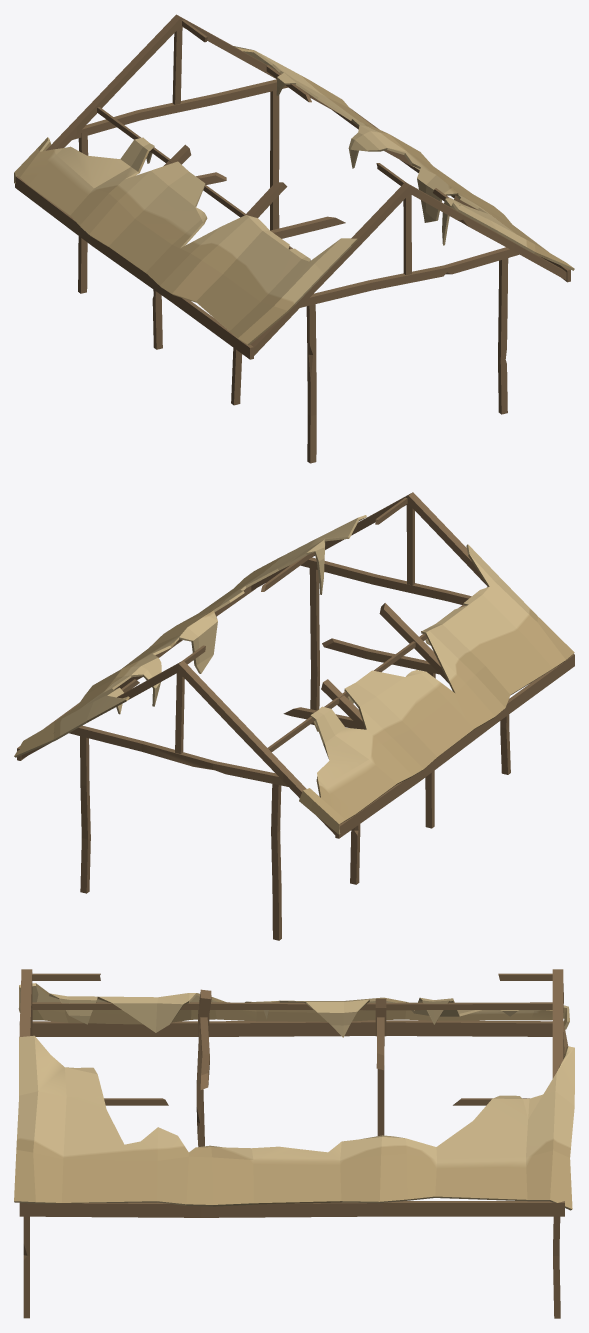
The model's file is SM_Bld_Tent_Shelter_Destroyed_01.glb.
3 renders of one model, top to bottom at view 1: azimuth 30°, elevation 25°; view 2: azimuth 150°, elevation 25°; view 3: azimuth 270°, elevation 25°, orthographic. The views are drawn at different scales.
Parts seen in each view (by area): view 1: SM_Bld_Tent_Shelter_Destroyed_01; view 2: SM_Bld_Tent_Shelter_Destroyed_01; view 3: SM_Bld_Tent_Shelter_Destroyed_01.
Part boxes in pixels (box(x1,y1,x2,y2)): SM_Bld_Tent_Shelter_Destroyed_01: box(14, 14, 574, 463); SM_Bld_Tent_Shelter_Destroyed_01: box(14, 492, 574, 940); SM_Bld_Tent_Shelter_Destroyed_01: box(14, 969, 574, 1318).
Bounding box in the file's own units: 7.75 × 5.68 × 9.77.
1 material, 1 textured.
